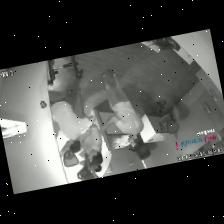person: (51, 78, 96, 152), (101, 69, 143, 147), (80, 123, 103, 164), (77, 153, 98, 180), (94, 166, 103, 174)
